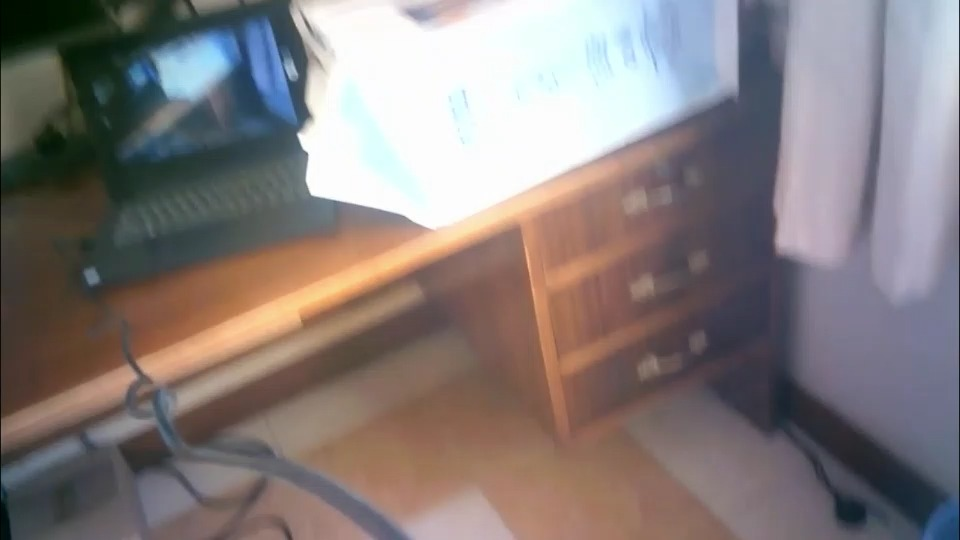wheat_flour_blue_label: (301, 3, 740, 222)
